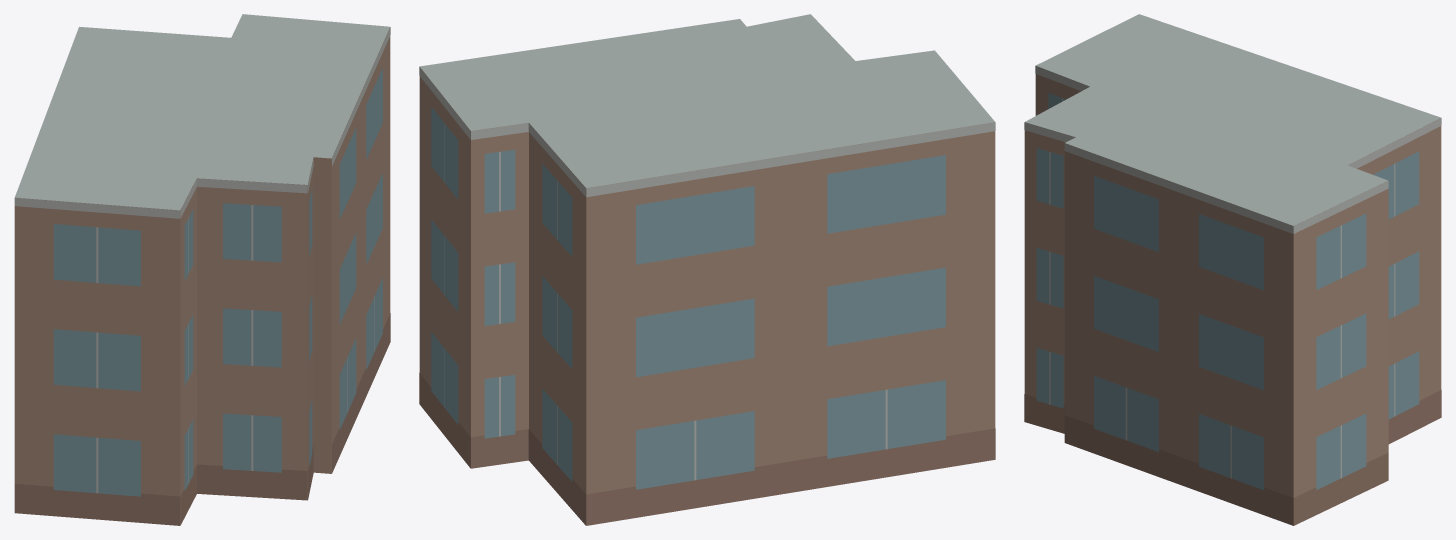
The model's file is survey-upis-32507071.glb.
3 renders of one model, left to right at view 1: azimuth 30°, elevation 25°; view 2: azimuth 150°, elevation 25°; view 3: azimuth 270°, elevation 25°, orthographic. The views are drawn at different scales.
Parts seen in each view (by area): view 1: survey-upis-32507071.tmp; view 2: survey-upis-32507071.tmp; view 3: survey-upis-32507071.tmp.
Part boxes in pixels (<box>): survey-upis-32507071.tmp: <box>14,14,390,525</box>; survey-upis-32507071.tmp: <box>419,14,995,525</box>; survey-upis-32507071.tmp: <box>1024,14,1441,525</box>.
Size of the model in its own units: 13.8 by 9.1 by 11.47.
